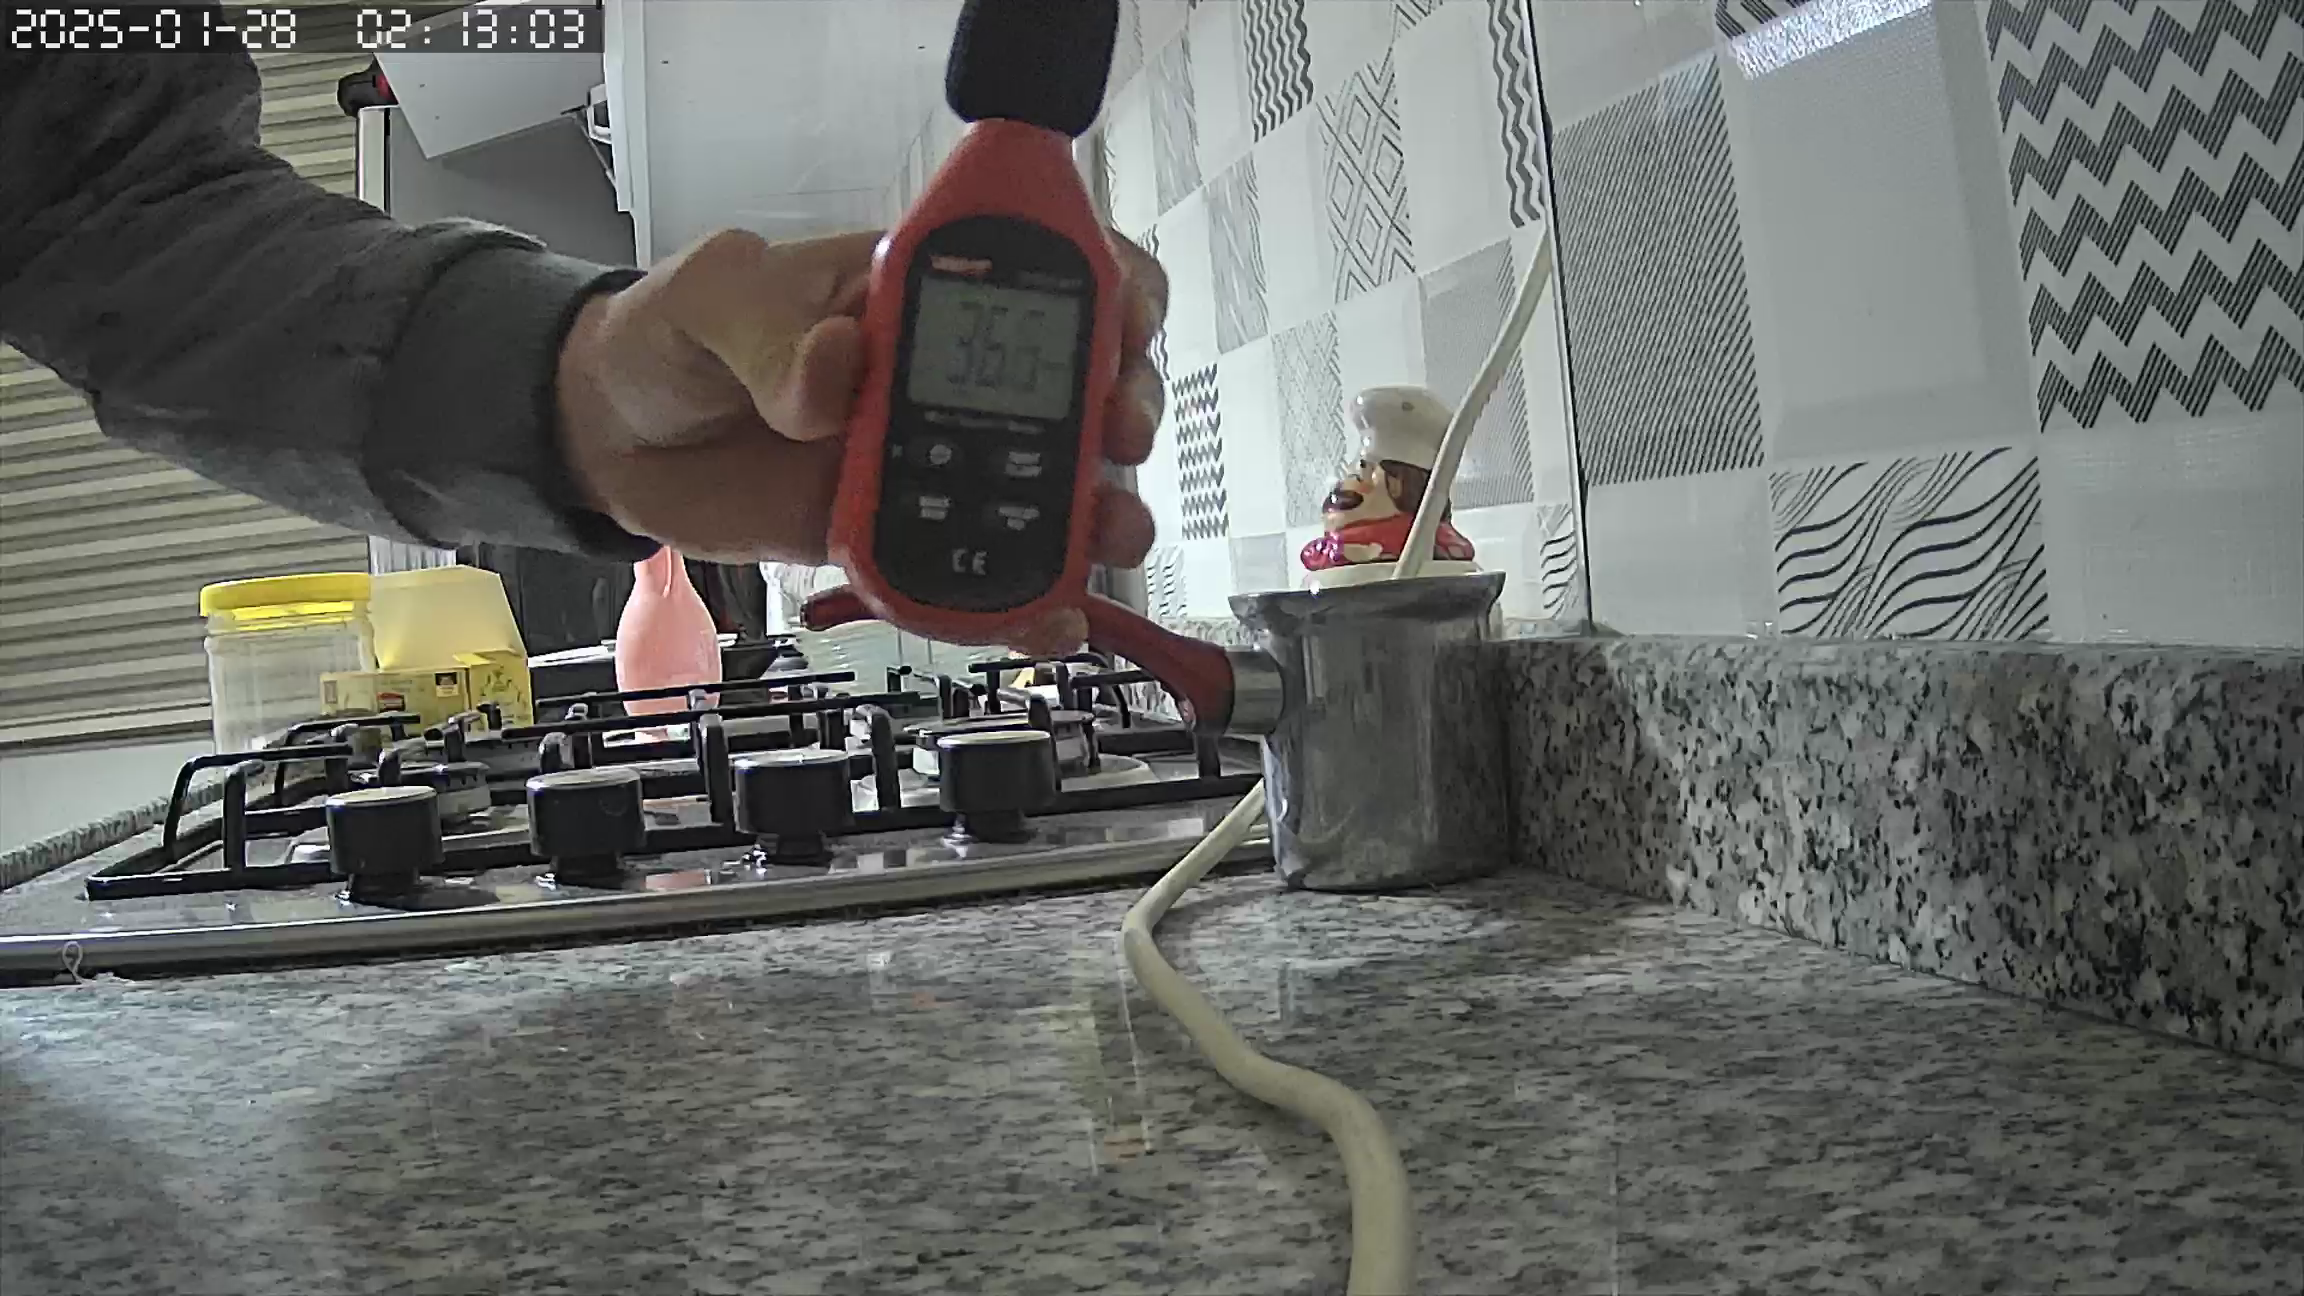screen: (908, 279, 1079, 421)
